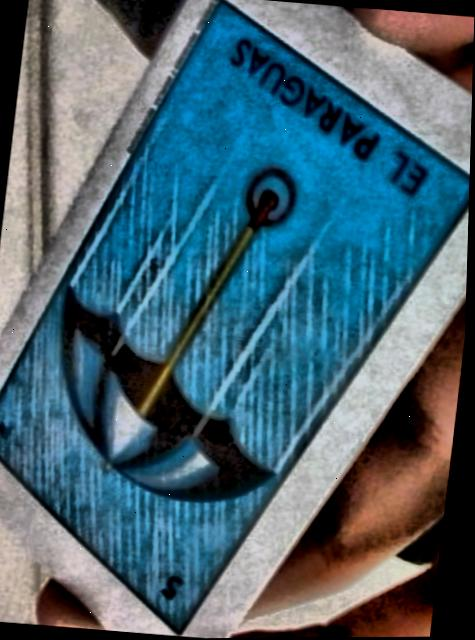El Paraguas: (0, 10, 471, 629)
